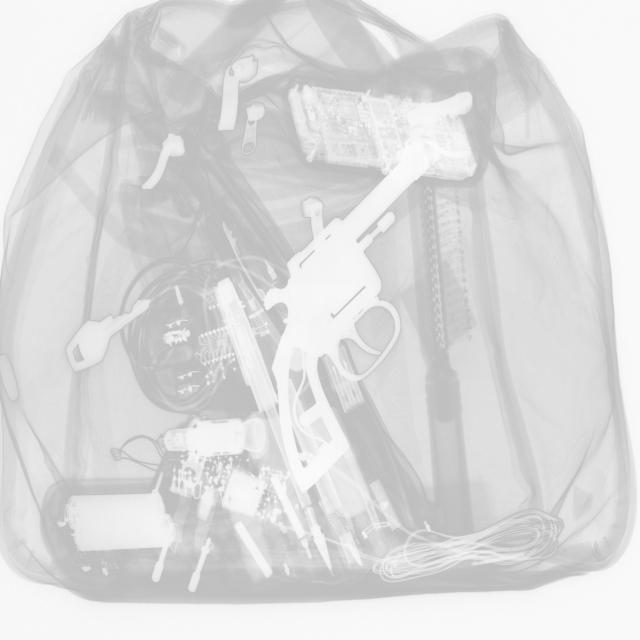knife: (186, 272, 384, 588)
pistol: (273, 142, 431, 489)
